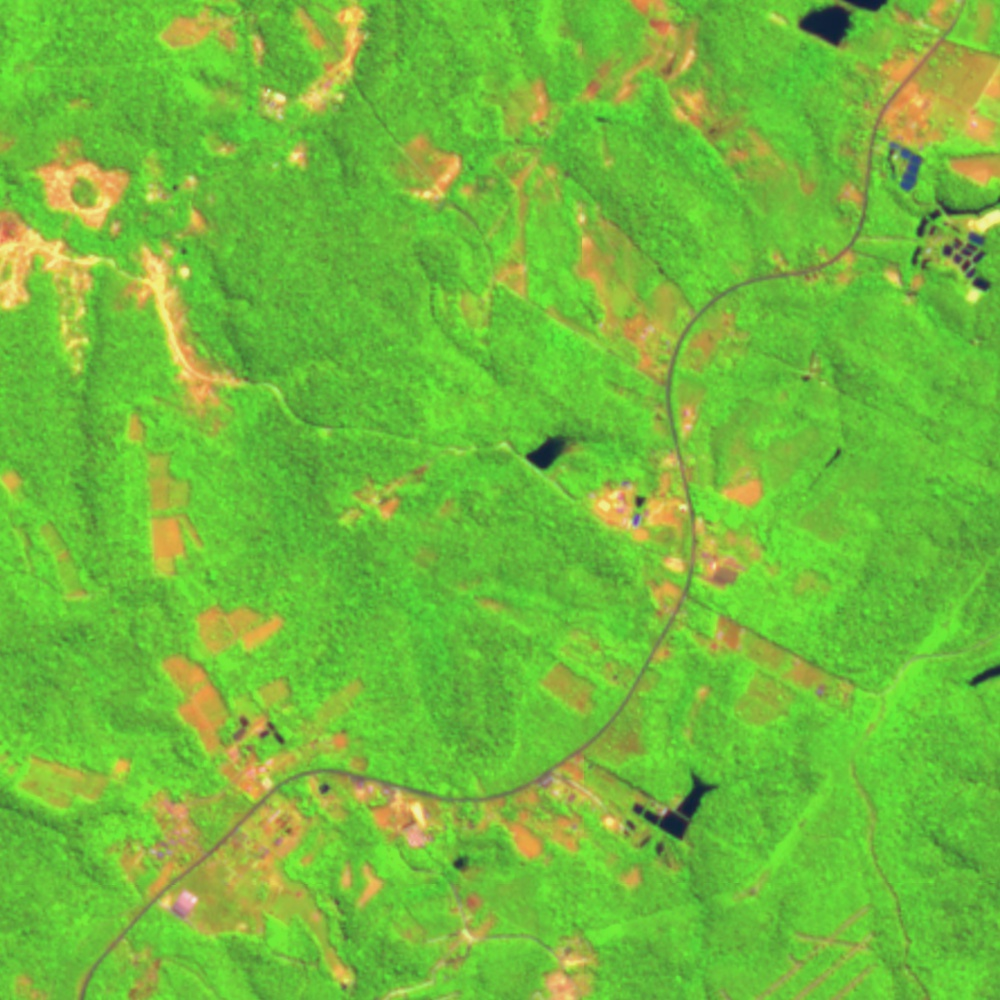legal: (1, 146, 251, 412), (113, 789, 361, 994), (580, 1, 818, 195), (449, 756, 721, 892), (562, 199, 738, 385), (841, 1, 1000, 204), (162, 653, 376, 794), (454, 75, 561, 324), (157, 1, 369, 124), (581, 454, 773, 589), (689, 611, 858, 729), (879, 139, 995, 297), (125, 412, 203, 580), (1, 469, 98, 600), (395, 897, 502, 998), (354, 770, 452, 852), (16, 752, 139, 814), (336, 457, 436, 533), (772, 1, 892, 64), (189, 600, 286, 658), (540, 920, 604, 1000), (397, 136, 461, 210), (619, 387, 705, 442), (644, 573, 691, 663), (540, 659, 595, 714), (524, 430, 593, 473), (796, 352, 822, 393), (962, 659, 1000, 687), (288, 145, 314, 171)
